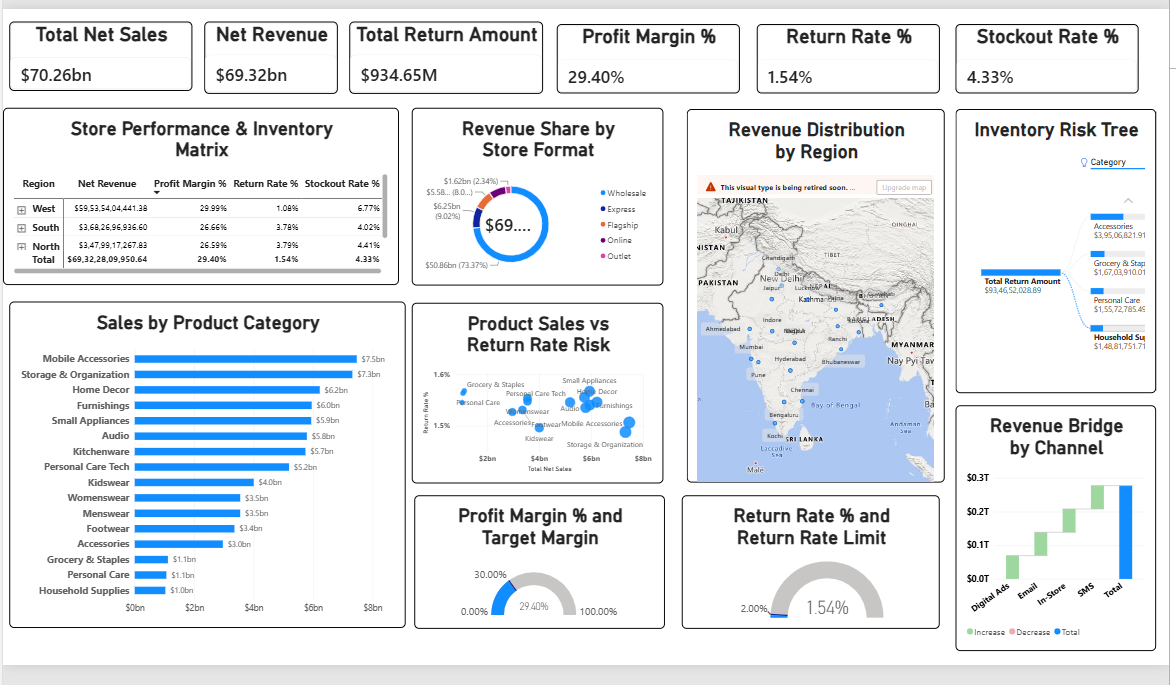

Layout of this report page (visuals, bound fields, positions):
{"tool":"powerbi","page":{"name":"Page 1","canvas":[1920,1080],"ordinal":0},"visuals":[{"type":"cardVisual","title":"  Total Net Sales","fields":{"Data":["_Measures.Total Net Sales"]},"box":[9.3,21,301.4,114.5],"z":0},{"type":"cardVisual","title":"  Net Revenue","fields":{"Data":["_Measures.Net Revenue"]},"box":[331.8,21,219.6,114.5],"z":1},{"type":"cardVisual","title":"  Total Return Amount","fields":{"Data":["_Measures.Total Return Amount"]},"box":[570,20,320.1,114.5],"z":2},{"type":"cardVisual","title":"Profit Margin %","fields":{"Data":["_Measures.Profit Margin %"]},"box":[911.2,25.7,301.4,114.5],"z":3},{"type":"cardVisual","title":"Return Rate %","fields":{"Data":["_Measures.Return Rate %"]},"box":[1240.6,25.7,301.4,114.5],"z":4},{"type":"cardVisual","title":"Stockout Rate %","fields":{"Data":["_Measures.Stockout Rate %"]},"box":[1567.7,25.7,301.4,114.5],"z":5},{"type":"pivotTable","title":"Store Performance & Inventory Matrix","fields":{"Rows":["dim_store.region","dim_store.store_format"],"Values":["_Measures.Net Revenue","_Measures.Profit Margin %","_Measures.Return Rate %","_Measures.Stockout Rate %"]},"box":[0,161.7,651.7,291.7],"z":6},{"type":"clusteredBarChart","title":"Sales by Product Category","fields":{"Category":["dim_product.Category"],"Y":["_Measures.Total Net Sales"]},"box":[10,482.5,652.5,537.5],"z":7},{"type":"donutChart","title":"Revenue Share by Store Format","fields":{"Category":["dim_store.store_format"],"Y":["_Measures.Net Revenue"]},"box":[673.8,161.9,414.3,292.9],"z":8},{"type":"scatterChart","title":"Product Sales vs Return Rate Risk","fields":{"Category":["dim_product.Category"],"Size":["_Measures.Net Revenue"],"X":["_Measures.Total Net Sales"],"Y":["_Measures.Return Rate %"]},"box":[673.8,483.3,414.3,297.6],"z":9},{"type":"map","title":"Revenue Distribution by Region","fields":{"Category":["dim_store.city"],"Size":["_Measures.Net Revenue"]},"box":[1125,165,425,615],"z":10},{"type":"waterfallChart","title":"Revenue Bridge by Channel","fields":{"Category":["dim_campaign.campaign_channel"],"Y":["_Measures.Net Revenue"]},"box":[1567.5,652.5,330,405],"z":11},{"type":"decompositionTreeVisual","title":"Inventory Risk Tree","fields":{"Analyze":["_Measures.Total Return Amount"],"ExplainBy":["dim_product.Category","dim_store.Region","dim_store.store_format"]},"box":[1568,164,330,468],"z":12},{"type":"gauge","fields":{"TargetValue":["_Measures.Target Margin"],"Y":["_Measures.Profit Margin %"]},"box":[677.5,800,412.5,220],"z":13},{"type":"gauge","fields":{"TargetValue":["_Measures.Return Rate Limit"],"Y":["_Measures.Return Rate %"]},"box":[1117.5,800,425,220],"z":14}]}

Visuals, with their boxes in screenshot pixels (x1, y1, x2, y2):
"  Total Net Sales" cardVisual: Rect(9, 22, 191, 91)
"  Net Revenue" cardVisual: Rect(203, 22, 336, 91)
"  Total Return Amount" cardVisual: Rect(347, 21, 541, 90)
"Profit Margin %" cardVisual: Rect(553, 25, 736, 94)
"Return Rate %" cardVisual: Rect(752, 25, 934, 94)
"Stockout Rate %" cardVisual: Rect(950, 25, 1132, 94)
"Store Performance & Inventory Matrix" pivotTable: Rect(3, 107, 397, 283)
"Sales by Product Category" clusteredBarChart: Rect(9, 301, 403, 625)
"Revenue Share by Store Format" donutChart: Rect(410, 107, 660, 284)
"Product Sales vs Return Rate Risk" scatterChart: Rect(410, 301, 660, 481)
"Revenue Distribution by Region" map: Rect(683, 109, 939, 480)
"Revenue Bridge by Channel" waterfallChart: Rect(950, 403, 1149, 648)
"Inventory Risk Tree" decompositionTreeVisual: Rect(950, 108, 1150, 391)
gauge - _Measures.Target Margin x _Measures.Profit Margin %: Rect(412, 492, 661, 625)
gauge - _Measures.Return Rate Limit x _Measures.Return Rate %: Rect(678, 492, 935, 625)
